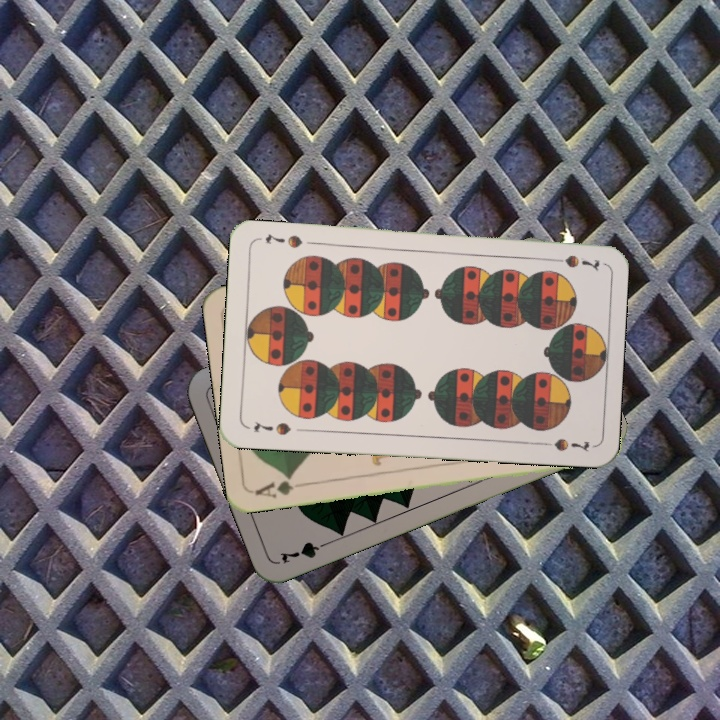G7: (276, 536, 334, 566)
GA: (251, 471, 310, 501)
S7: (544, 251, 602, 273), (250, 417, 293, 438)
